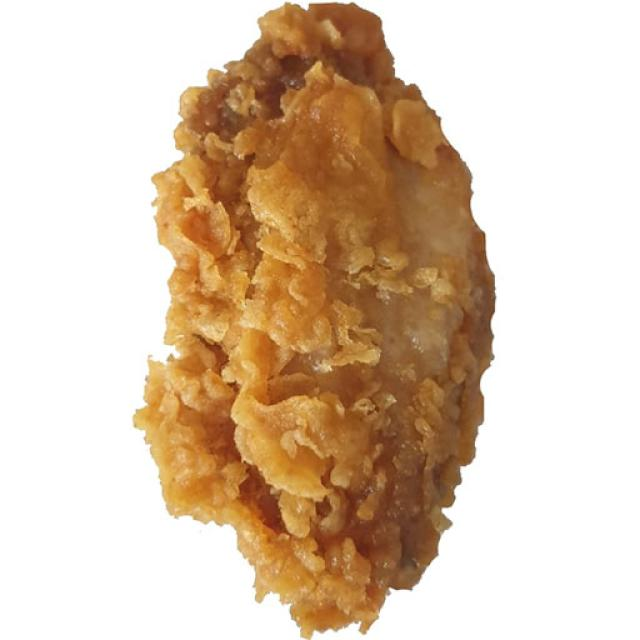Frango: (172, 56, 463, 628)
